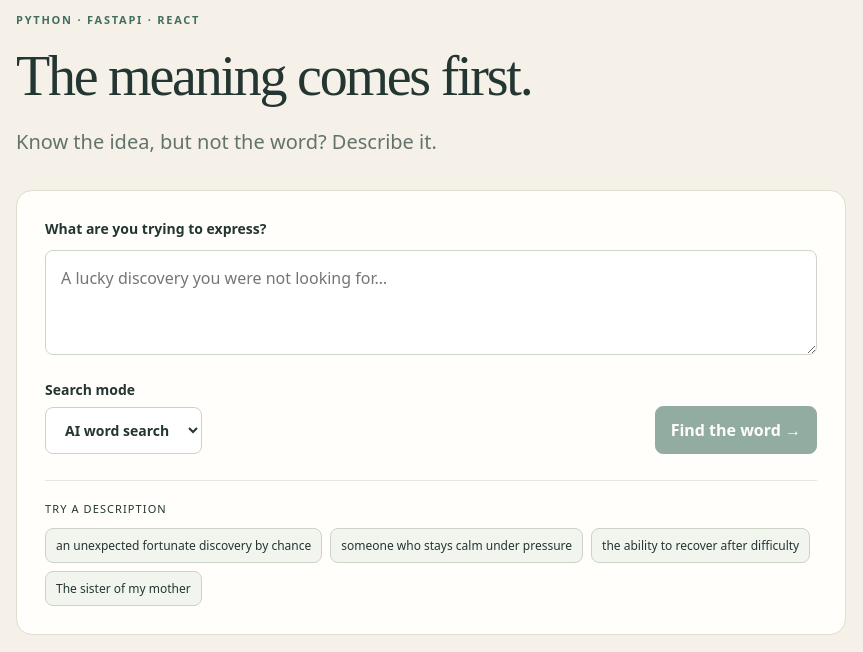
Scenario: disables empty queries and fills example descriptions
Expected: the button "Find the word →" is disabled, [655,406,817,454]
Click the button "the ability to recover after difficulty" at coordinates (701, 546), box [591,528,810,563]
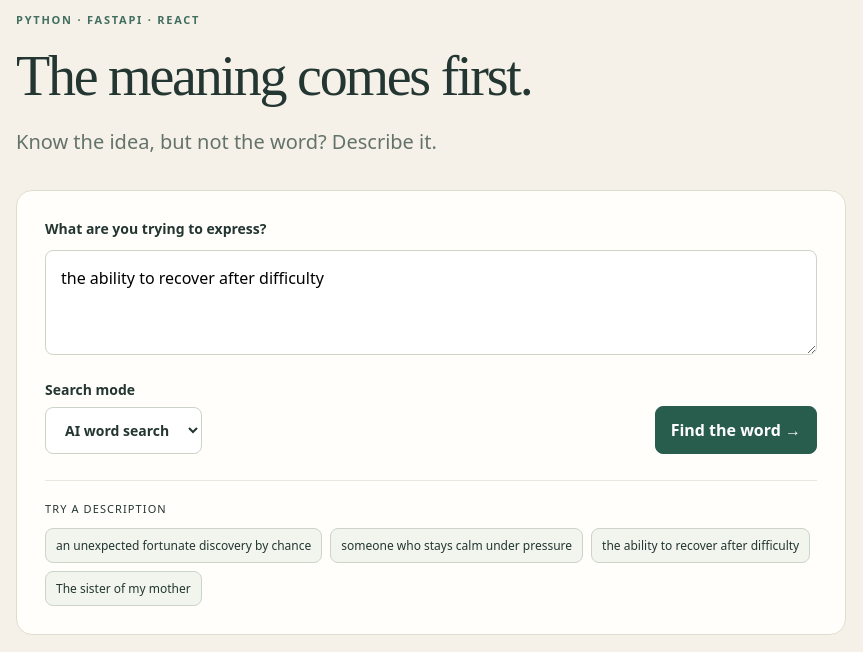
Result: the text box labelled "What are you trying to express?" holds "the ability to recover after difficulty" at [45,250,817,355]
